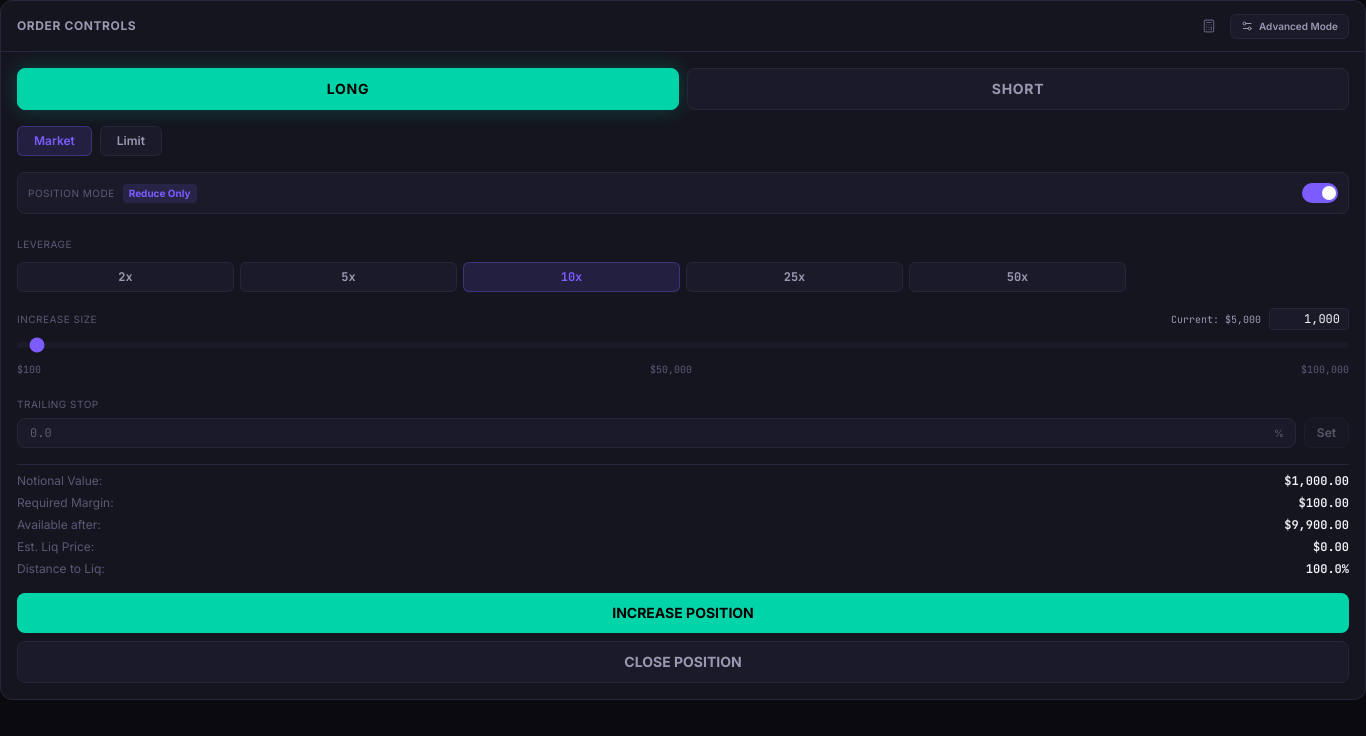
Test case: TradeControls — slider and position labels › shows TP/SL inputs in advanced mode with open position + limit selected
Click the button "Advanced Mode": (1289, 26) [1230,14,1349,38]
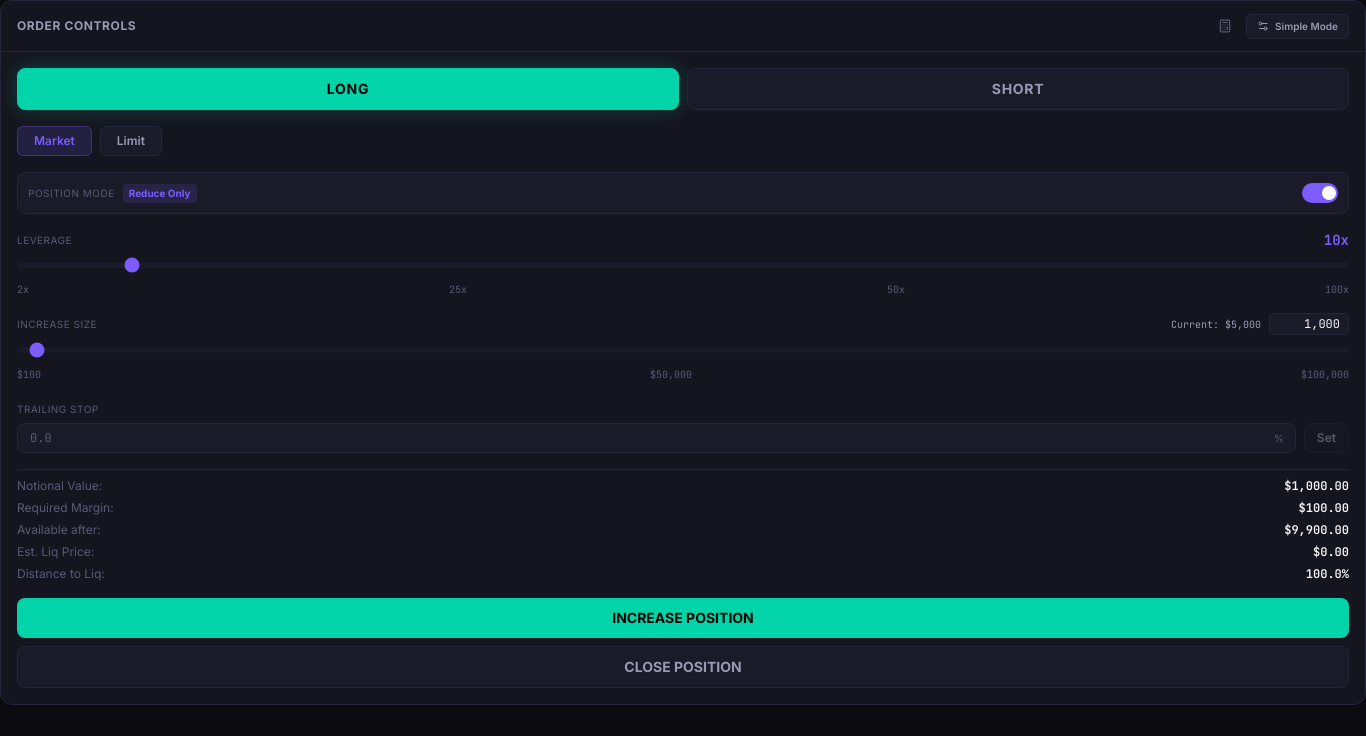
Click the button "Limit": (131, 141) [100,126,162,156]
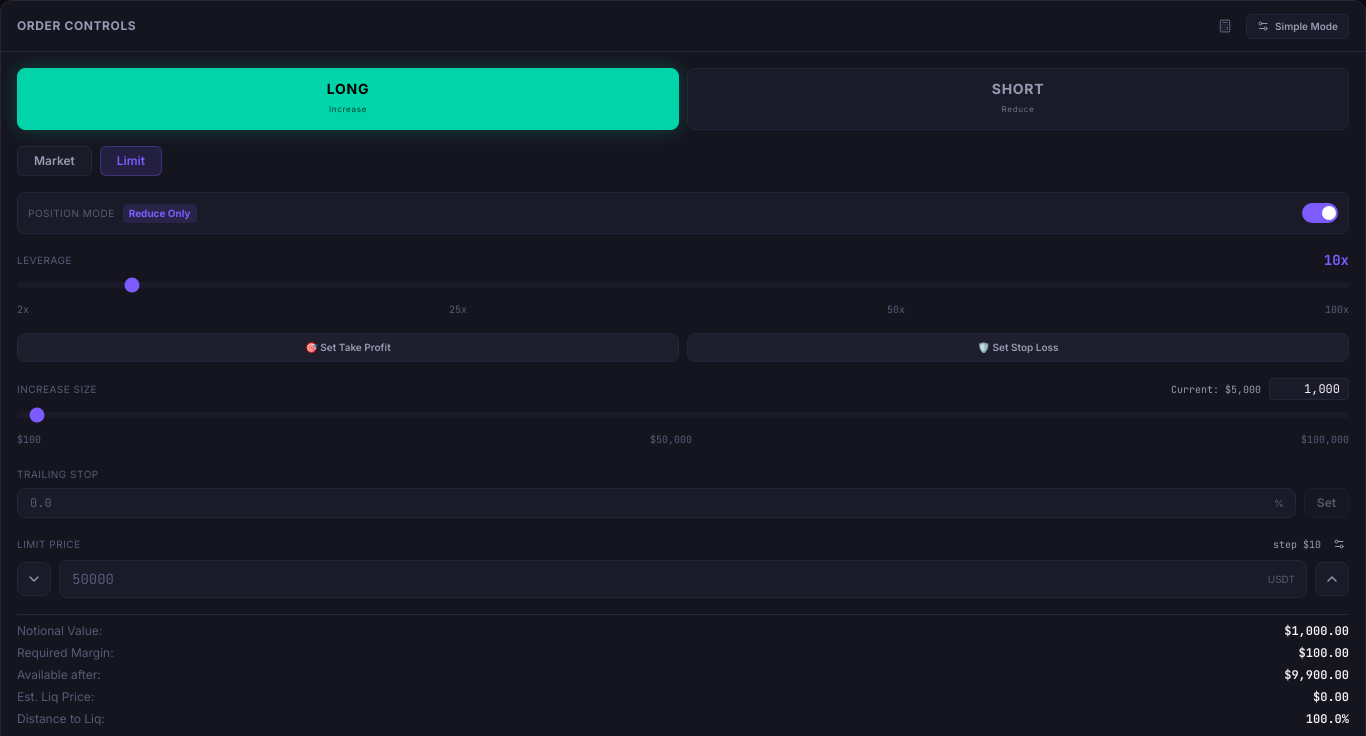
Click the button "🎯 Set Take Profit": (348, 348) [17,333,679,362]
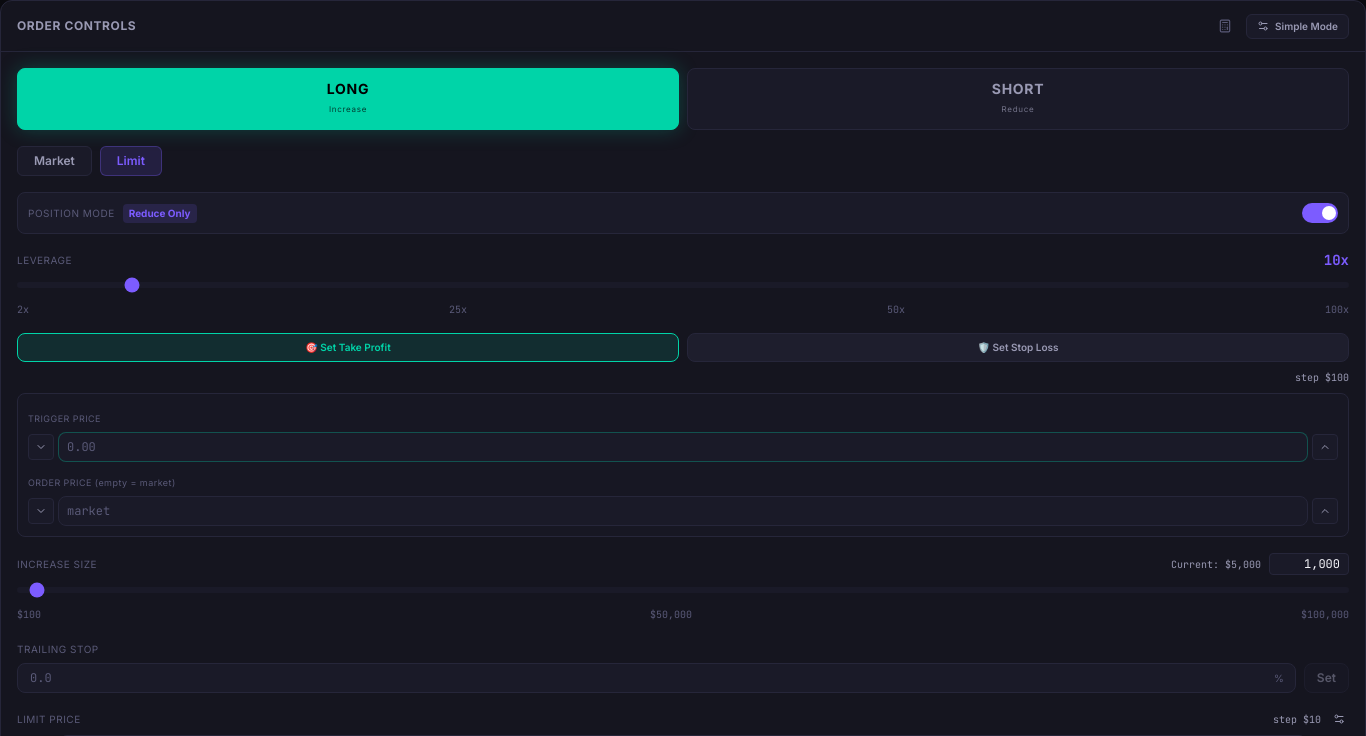
Expected: the text "Trigger Price" is shown, [28,413,101,424]
Expected: the text "Order Price" is shown, [28,477,92,488]
